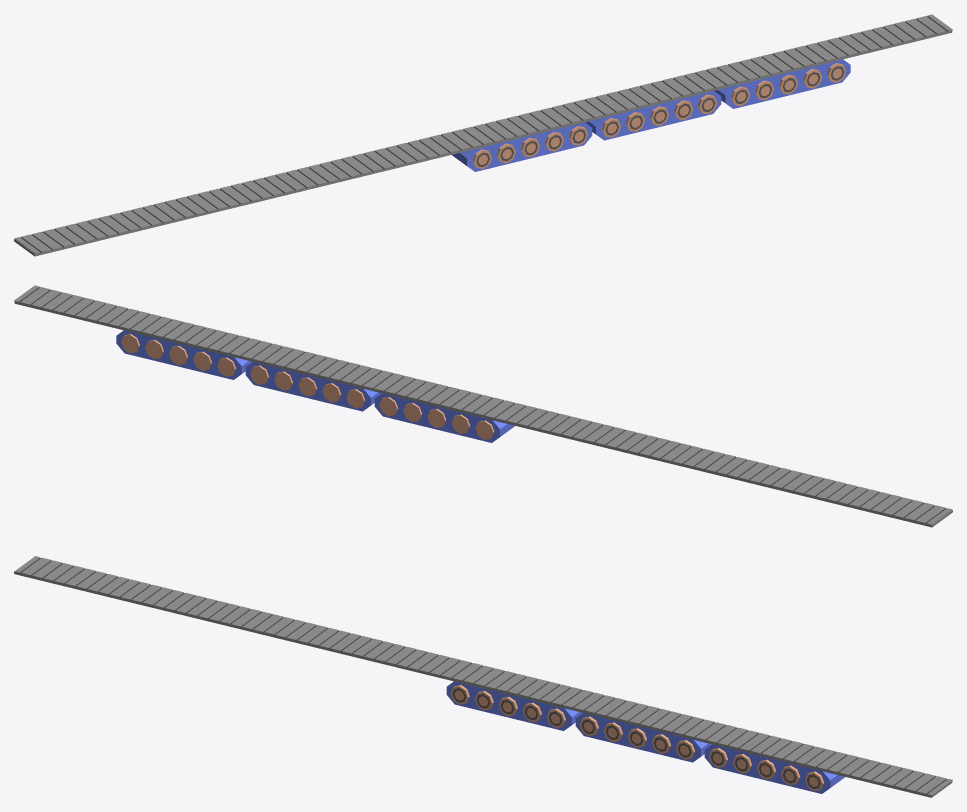
Rendered from cintaanimada.fbx.
3 views of the same model, one above another, from view 1: azimuth 30°, elevation 25°; view 2: azimuth 150°, elevation 25°; view 3: azimuth 330°, elevation 25° (orthographic).
Parts seen in each view (by area): view 1: Cube.001, Cube.002, Cube.003, Cube; view 2: Cube.001, Cube.002, Cube.003, Cube; view 3: Cube.001, Cube.003, Cube, Cube.002.
Boxes of the visible parts, bbox=[...] form: Cube.001: bbox=[14, 14, 952, 256]; Cube.002: bbox=[452, 122, 592, 171]; Cube.003: bbox=[714, 59, 850, 108]; Cube: bbox=[585, 91, 721, 140]; Cube.001: bbox=[14, 285, 952, 527]; Cube.002: bbox=[374, 393, 514, 442]; Cube.003: bbox=[116, 330, 252, 379]; Cube: bbox=[245, 362, 381, 411]; Cube.001: bbox=[14, 556, 952, 797]; Cube.003: bbox=[704, 744, 844, 793]; Cube: bbox=[575, 713, 711, 762]; Cube.002: bbox=[446, 681, 582, 730].
Bounding box in the file's own units: 8131 × 221 × 357.
